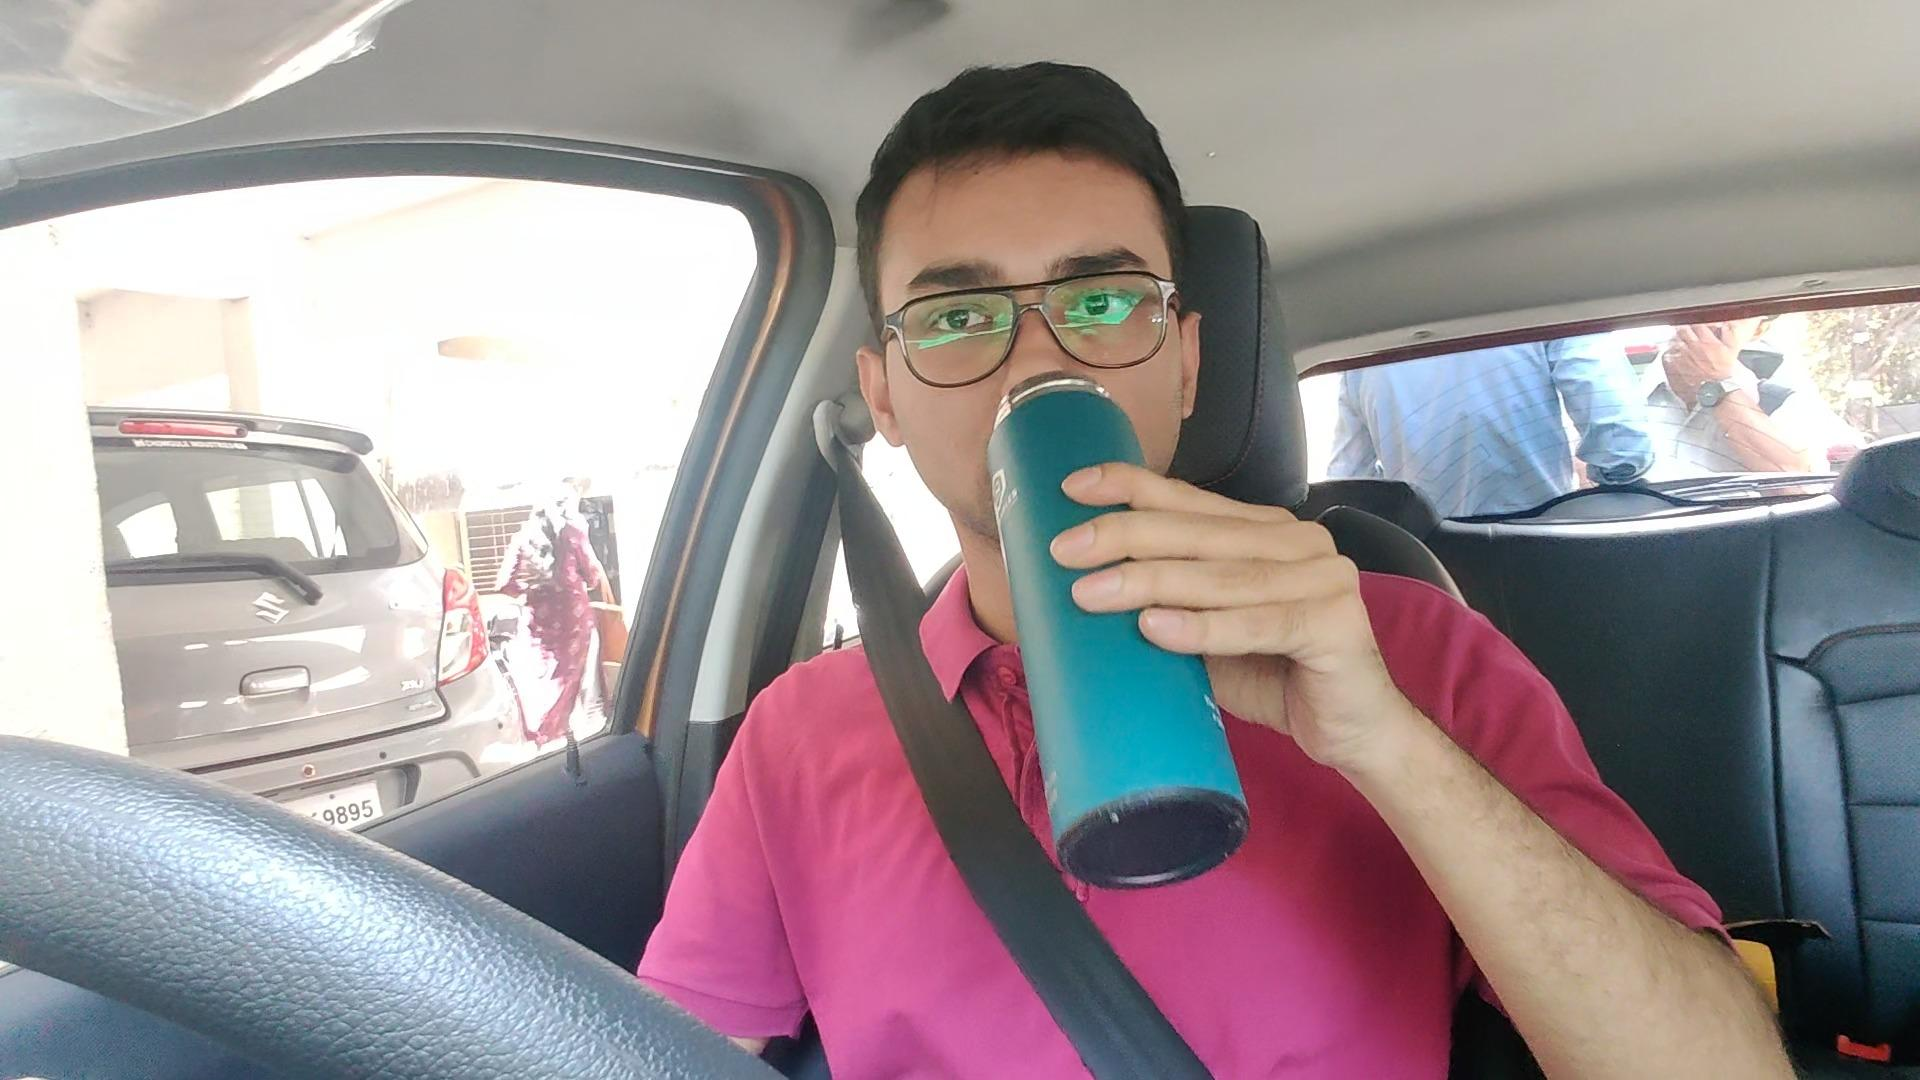Drinking: (853, 161, 1367, 765)
